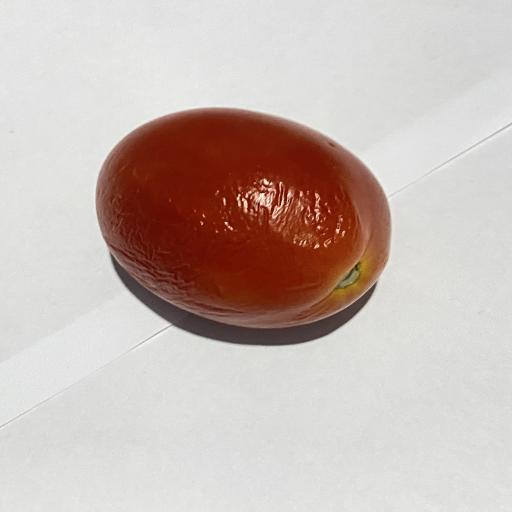spoiled: (96, 108, 390, 328)
